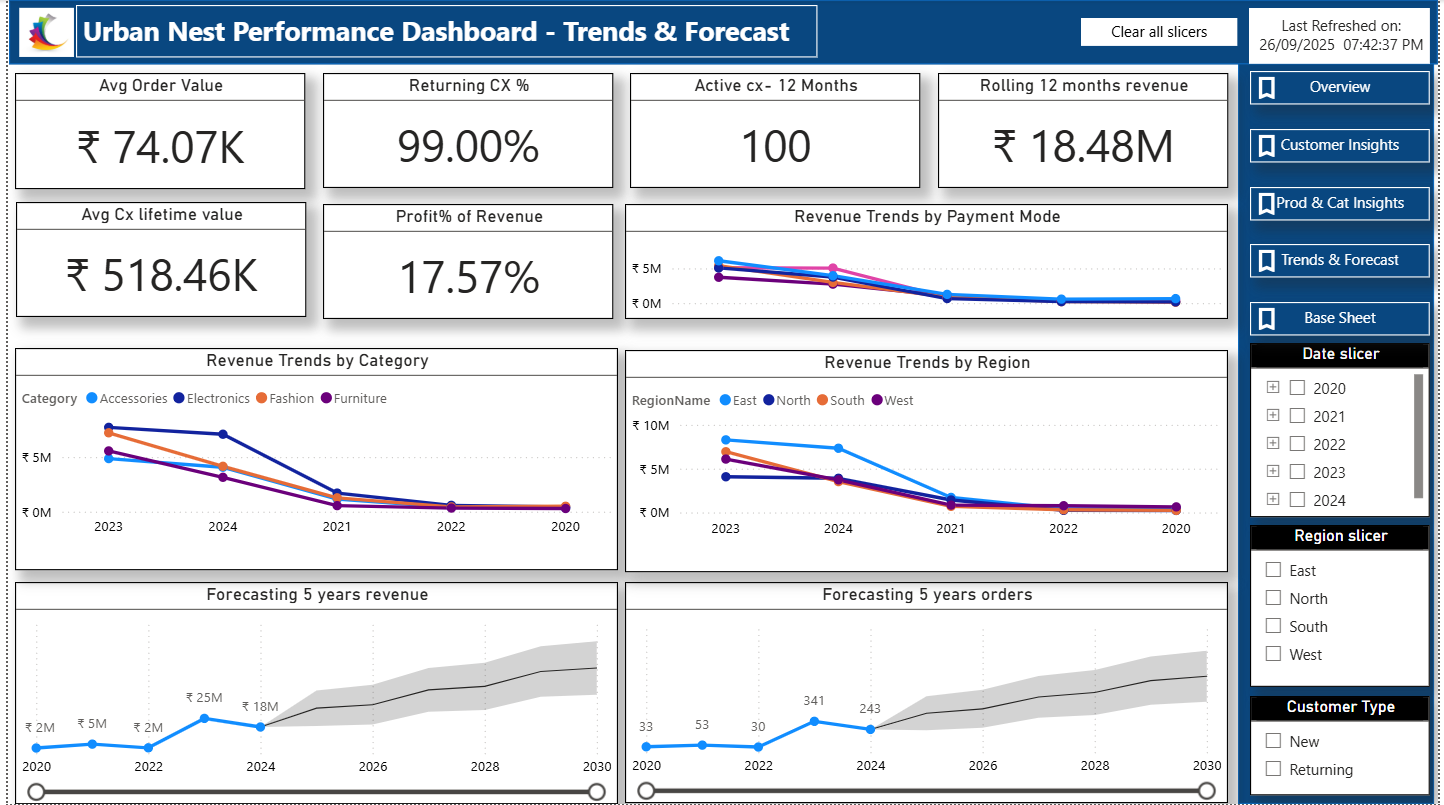

The dashboard page shown, as its layout file describes it:
{"tool":"powerbi","page":{"name":"Trends & Forecast","canvas":[1280,720],"ordinal":3},"visuals":[{"type":"group","id":"g1","title":"page1 layout","box":[0.5,0,1279.5,720],"z":0},{"type":"shape","box":[1100.9,0,175.6,720],"z":0,"group":"g1"},{"type":"slicer","title":"Date slicer","fields":{"Values":["Calendar table.Date Hierarchy.Year","Calendar table.Date Hierarchy.Quarter","Calendar table.Date Hierarchy.Month"]},"box":[1111.6,307,161,156],"z":1000,"group":"g1"},{"type":"lineChart","title":"Forecasting 5 years revenue","fields":{"Y":["Measure table.Total revenue"],"Category":["Calendar table.Date Hierarchy.Year","Calendar table.Date Hierarchy.Month"]},"box":[6.3,521.2,540,198.8],"z":1000},{"type":"slicer","title":"Region slicer","fields":{"Values":["Regions.RegionName"]},"box":[1111.6,470.5,161,145],"z":2000,"group":"g1"},{"type":"lineChart","title":"Forecasting 5 years orders","fields":{"Category":["Calendar table.Year"],"Y":["Measure table.Total orders"]},"box":[552.5,521.2,540,197.9],"z":2000},{"type":"shape","box":[0.5,0,1279.5,57.6],"z":3000,"group":"g1"},{"type":"lineChart","title":"Revenue Trends by Category","fields":{"Category":["Calendar table.Year","Calendar table.Date Hierarchy.Year","Calendar table.Date Hierarchy.Month"],"Series":["Products.Category"],"Y":["Measure table.Total revenue"]},"box":[6.3,311.6,540,198.8],"z":3000},{"type":"lineChart","title":"Revenue Trends by Region","fields":{"Category":["Calendar table.Year","Calendar table.Date Hierarchy.Year","Calendar table.Date Hierarchy.Month"],"Series":["Regions.RegionName"],"Y":["Measure table.Total revenue"]},"box":[552.5,313.4,540,198.8],"z":4000},{"type":"slicer","title":"Customer Type","fields":{"Values":["Customers.CustomerType"]},"box":[1111.6,623,161,89],"z":4000,"group":"g1"},{"type":"actionButton","title":"Overview","box":[1111.5,63.8,161.4,30.1],"z":5000,"group":"g1"},{"type":"card","title":"Avg Order Value","fields":{"Values":["Measure table.AOV"]},"box":[6.3,65.4,260,103.9],"z":5000},{"type":"card","title":"Returning CX %","fields":{"Values":["Measure table.Returning cx %"]},"box":[281.6,65.4,260,103],"z":6000},{"type":"actionButton","title":"Overview","box":[1111.5,115.5,161,30.1],"z":6000,"group":"g1"},{"type":"card","title":"Active cx- 12 Months","fields":{"Values":["Measure table.Active cx 12 months"]},"box":[557,65.4,260,103],"z":7000},{"type":"actionButton","title":"Overview","box":[1111.5,167.2,161.4,30],"z":7000,"group":"g1"},{"type":"card","title":"Rolling 12 months revenue","fields":{"Values":["Measure table.rolling 12 month rev"]},"box":[832.4,65.1,260.3,103.2],"z":8000},{"type":"actionButton","title":"Overview","box":[1111.5,218.8,161.4,30.1],"z":8000,"group":"g1"},{"type":"card","title":"Avg Cx lifetime value","fields":{"Values":["Measure table.avg clv"]},"box":[6.7,180.6,260,103],"z":9000},{"type":"actionButton","title":"Overview","box":[1111.5,270.4,161.4,30.1],"z":9000,"group":"g1"},{"type":"image","box":[7.6,0,53.2,57.6],"z":10000,"group":"g1"},{"type":"card","title":"Profit% of Revenue","fields":{"Values":["Measure table.prof%"]},"box":[281.8,183,260.5,102.6],"z":10000},{"type":"card","fields":{"Values":["Measure table.Last refresh"]},"box":[1110.7,7.5,161.8,49.8],"z":11000,"group":"g1"},{"type":"lineChart","title":"Revenue Trends by Payment Mode","fields":{"Category":["Calendar table.Year","Calendar table.Date Hierarchy.Year","Calendar table.Date Hierarchy.Month"],"Y":["Measure table.Total revenue"],"Series":["PaymentModes.PaymentMode"]},"box":[552.5,182.7,540,103],"z":11000},{"type":"textbox","box":[60.1,4.5,664.5,46.6],"z":12000,"group":"g1"},{"type":"actionButton","box":[960.3,16,140.1,25.4],"z":13000,"group":"g1"}]}

Visuals, with their boxes on the page's 1280x720 design canvas (x1, y1, x2, y2). These are canvas units, not pixel positions in the 1444x805 screenshot, which may show the page scaled, cropped or inside an application window:
"page1 layout" group: rect(0, 0, 1280, 720)
shape: rect(1101, 0, 1276, 720)
"Date slicer" slicer: rect(1112, 307, 1273, 463)
"Forecasting 5 years revenue" lineChart: rect(6, 521, 546, 720)
"Region slicer" slicer: rect(1112, 470, 1273, 616)
"Forecasting 5 years orders" lineChart: rect(552, 521, 1092, 719)
shape: rect(0, 0, 1280, 58)
"Revenue Trends by Category" lineChart: rect(6, 312, 546, 510)
"Revenue Trends by Region" lineChart: rect(552, 313, 1092, 512)
"Customer Type" slicer: rect(1112, 623, 1273, 712)
"Overview" actionButton: rect(1112, 64, 1273, 94)
"Avg Order Value" card: rect(6, 65, 266, 169)
"Returning CX %" card: rect(282, 65, 542, 168)
"Overview" actionButton: rect(1112, 116, 1272, 146)
"Active cx- 12 Months" card: rect(557, 65, 817, 168)
"Overview" actionButton: rect(1112, 167, 1273, 197)
"Rolling 12 months revenue" card: rect(832, 65, 1093, 168)
"Overview" actionButton: rect(1112, 219, 1273, 249)
"Avg Cx lifetime value" card: rect(7, 181, 267, 284)
"Overview" actionButton: rect(1112, 270, 1273, 300)
image: rect(8, 0, 61, 58)
"Profit% of Revenue" card: rect(282, 183, 542, 286)
card - Measure table.Last refresh: rect(1111, 8, 1272, 57)
"Revenue Trends by Payment Mode" lineChart: rect(552, 183, 1092, 286)
textbox: rect(60, 4, 725, 51)
actionButton: rect(960, 16, 1100, 41)
